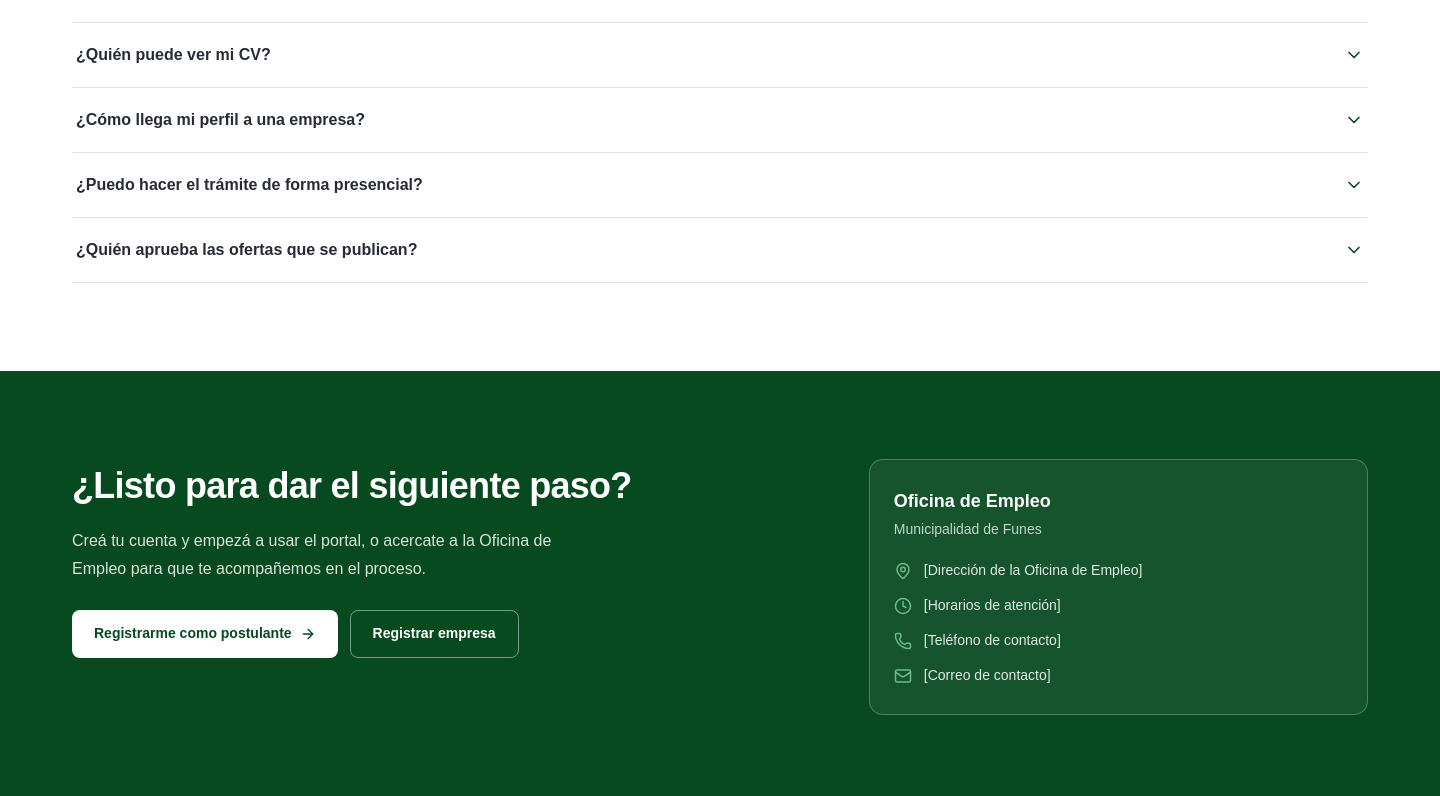
Test: keeps remaining Home registration shortcuts on Home after replacing the role guide
(page scrolled)
Click the link "Registrarme como postulante" at (205, 634), box [72,610,338,658]
(page scrolled)
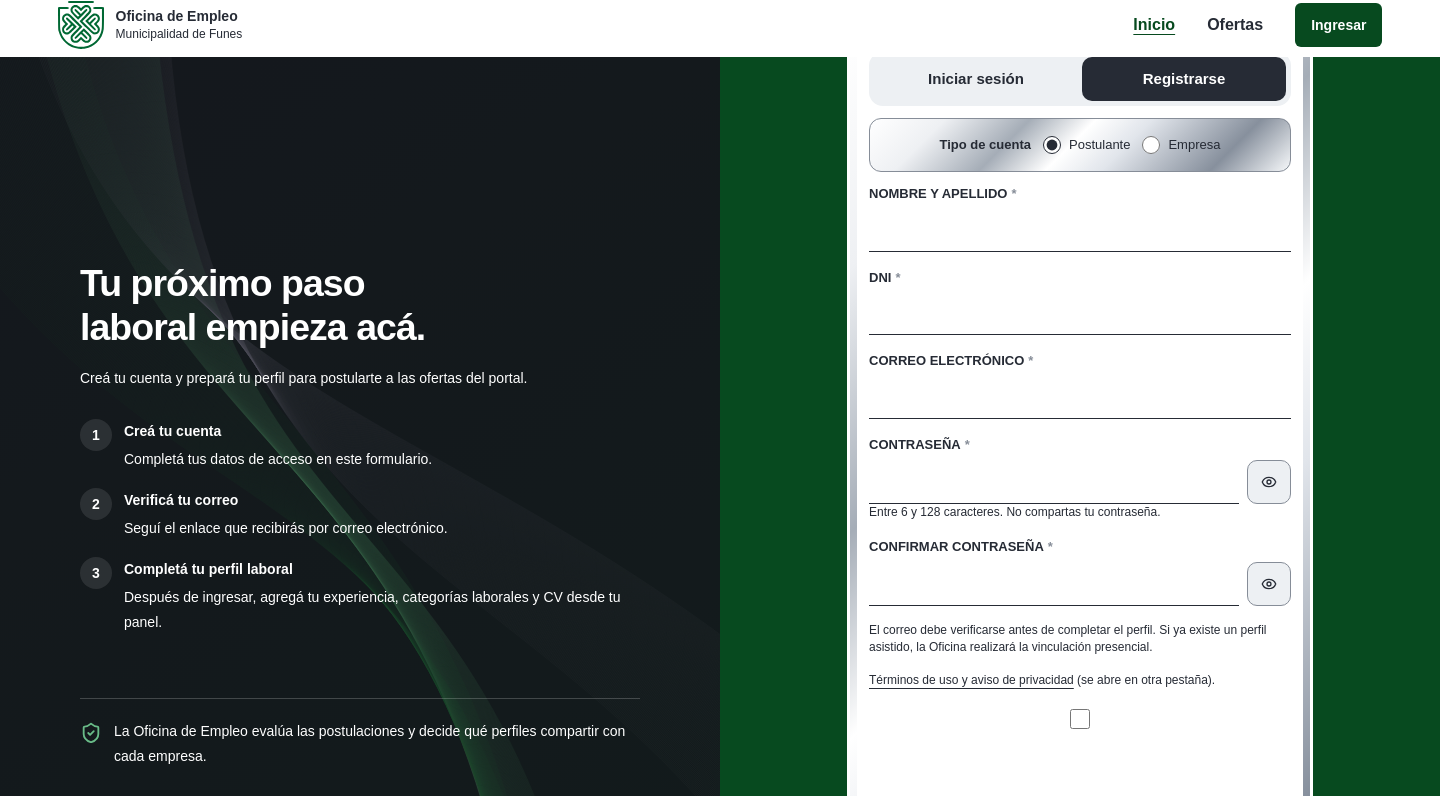
Check: the field labelled "DNI" is shown, box [869,291,1291,335]
